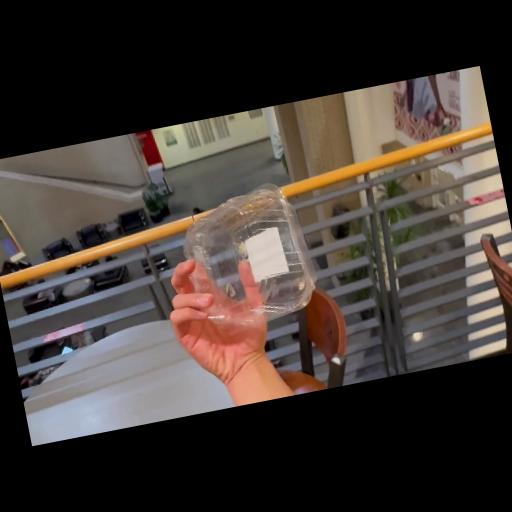small_plastic_container: (173, 173, 325, 340)
